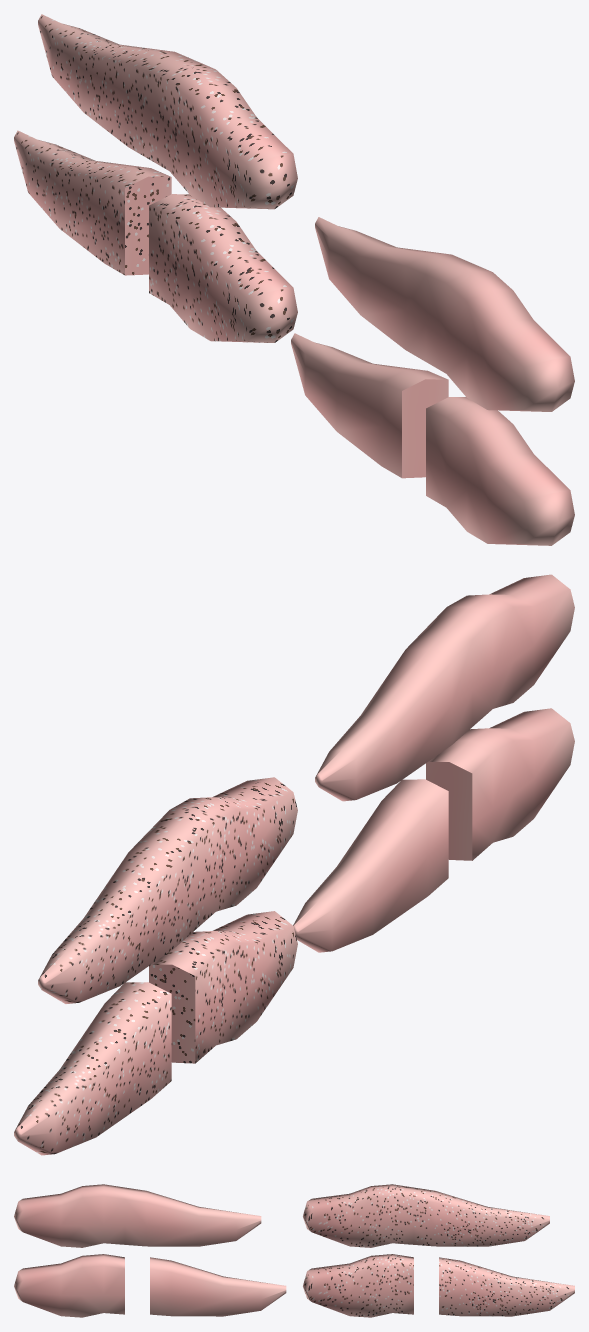
Rendered from sasami02.fbx.
3 views of the same model, one above another, from view 1: azimuth 30°, elevation 25°; view 2: azimuth 150°, elevation 25°; view 3: azimuth 270°, elevation 25° (orthographic). The views are drawn at different scales.
Parts seen in each view (by area): view 1: polySurface3 (×2), pCube3, pCube5, polySurface4 (×2); view 2: polySurface4 (×2), polySurface3 (×2), pCube3, pCube5; view 3: polySurface3 (×2), pCube3, pCube5, polySurface4 (×2).
Boxes of the visible parts, bbox=[...] form: polySurface3 (×2): bbox=[149, 194, 574, 545]; pCube3: bbox=[315, 217, 574, 411]; pCube5: bbox=[38, 14, 297, 209]; polySurface4 (×2): bbox=[14, 130, 448, 478]; polySurface4 (×2): bbox=[14, 779, 448, 1155]; polySurface3 (×2): bbox=[149, 708, 574, 1063]; pCube3: bbox=[315, 574, 574, 801]; pCube5: bbox=[38, 777, 297, 1003]; polySurface3 (×2): bbox=[14, 1254, 413, 1317]; pCube3: bbox=[14, 1184, 261, 1247]; pCube5: bbox=[303, 1184, 549, 1247]; polySurface4 (×2): bbox=[150, 1257, 574, 1316].
Bounding box in the file's own units: 1.09 × 5.48 × 21.87.
2 materials, 2 textured.
